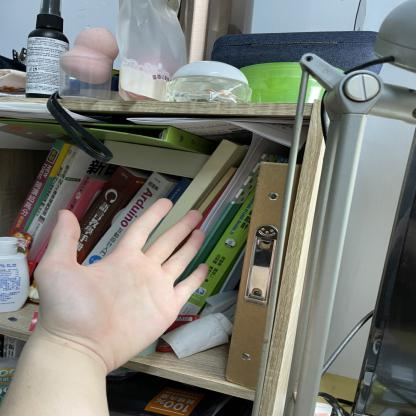bare_hand: (20, 182, 219, 377)
